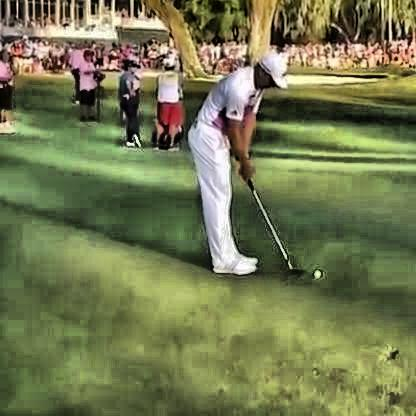golfball: (309, 267, 319, 277)
